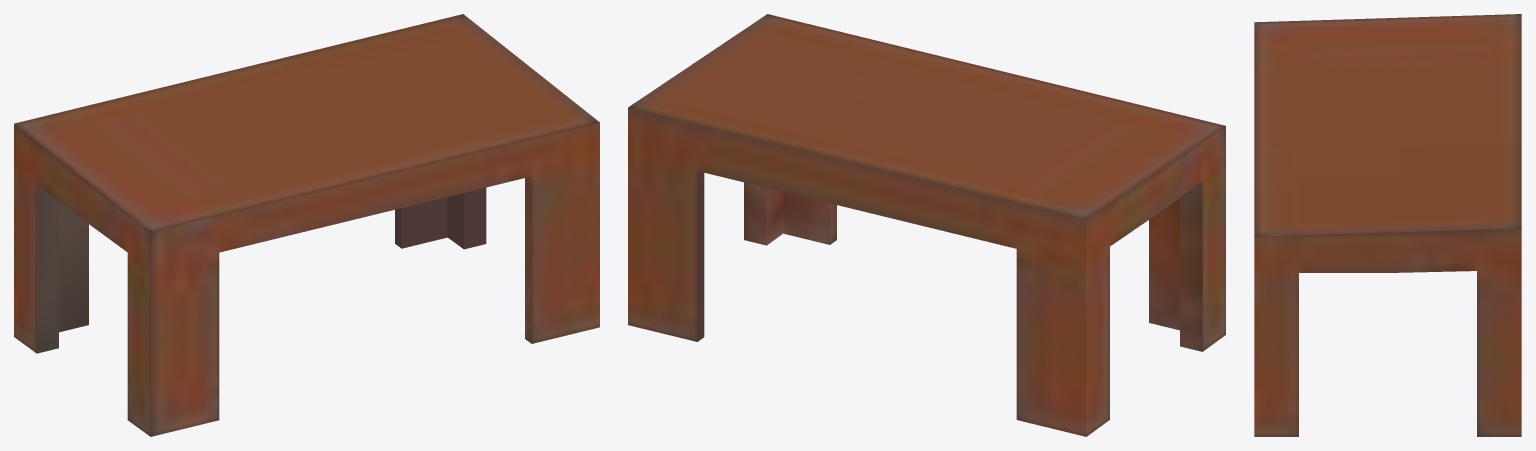
Rendered from free_medieval_bench.glb.
The picture shows the model from 3 angles, left to right: view 1: azimuth 30°, elevation 25°; view 2: azimuth 150°, elevation 25°; view 3: azimuth 270°, elevation 25°; orthographic projection. The views are drawn at different scales.
Visible parts, largest first — view 1: free_medieval_bench; view 2: free_medieval_bench; view 3: free_medieval_bench.
Part boxes in pixels (x1,y1,x2,y2): free_medieval_bench: [14, 14, 599, 436]; free_medieval_bench: [628, 14, 1225, 436]; free_medieval_bench: [1254, 14, 1521, 436].
Size of the model in its own units: 0.9133 by 0.4144 by 0.4812.
1 material, 1 textured.
